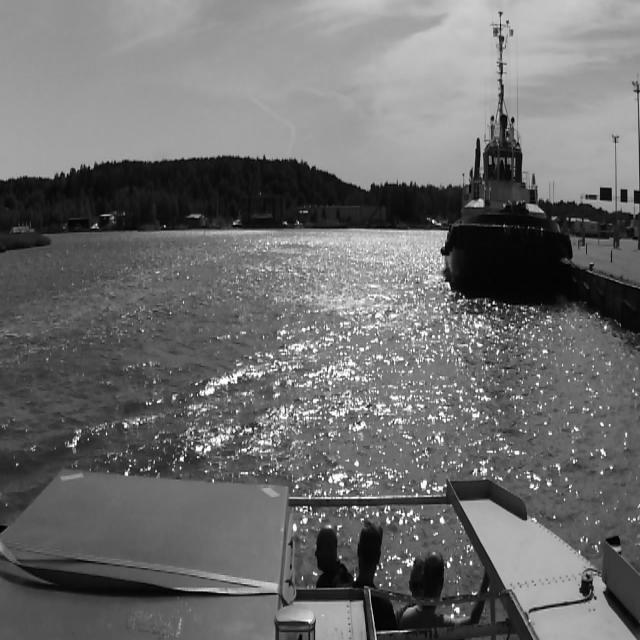ship: (440, 6, 572, 298)
